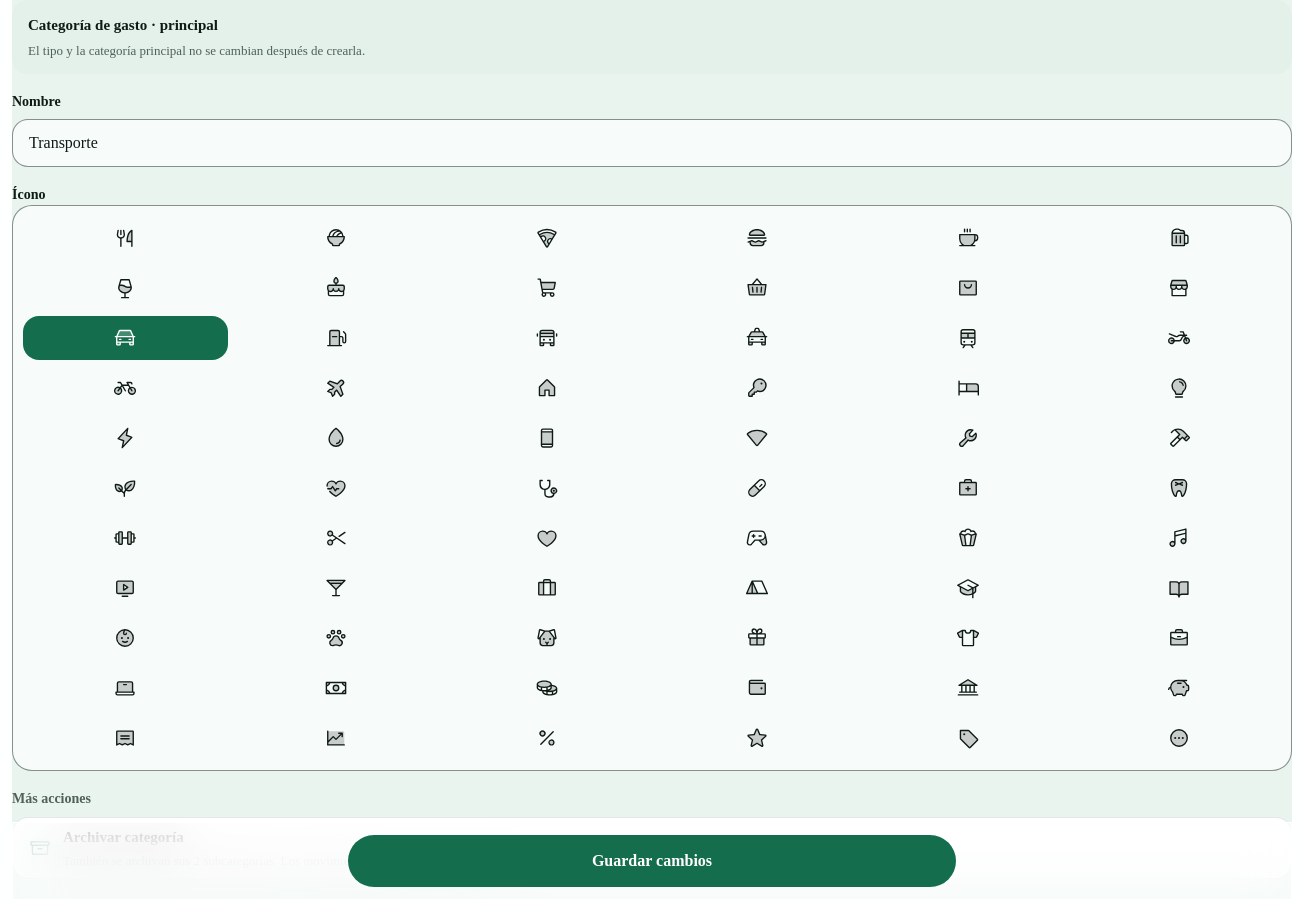
Test: other failures › shows a category that is gone (404) in an Alert, in Spanish
The image size is (1304, 900).
Replace the text in the field labelled "Nombre" with "Movilidad" at (652, 143), box [12,119,1292,167]
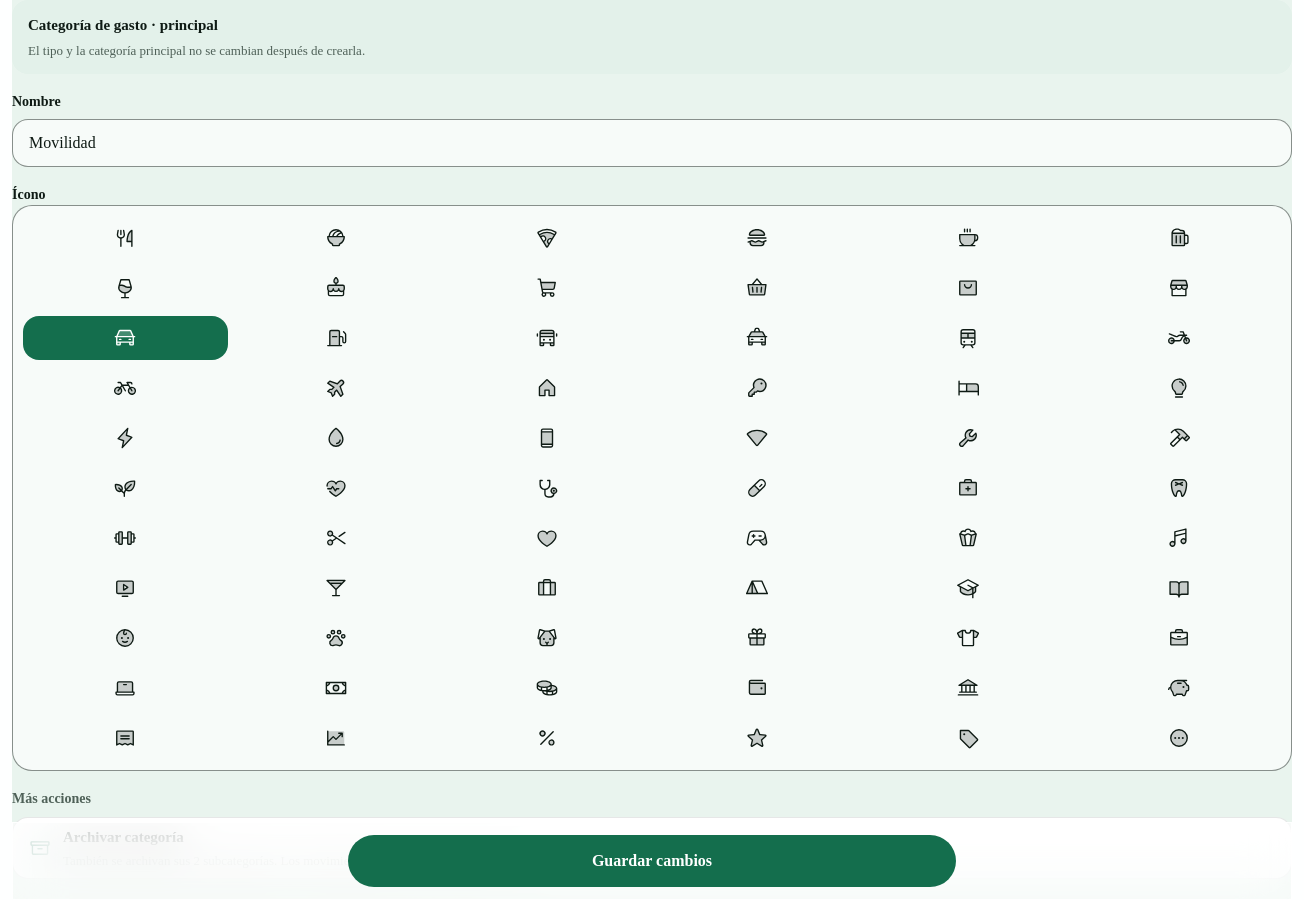
Click the button "Guardar cambios".
click(652, 861)  # box [348,835,956,887]
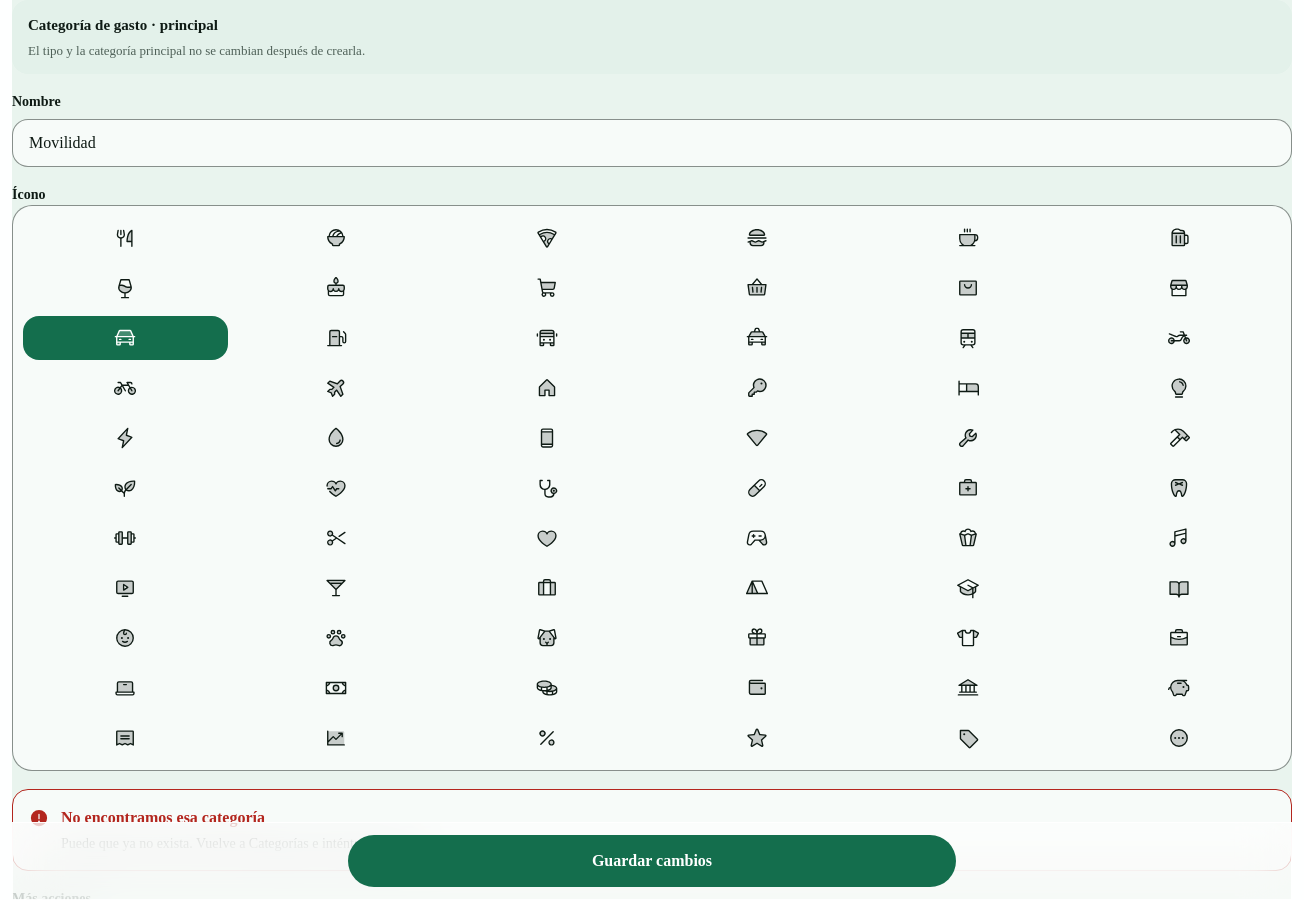
expect the text "No encontramos esa categoría" is shown: met, box [61,809,265,826]
